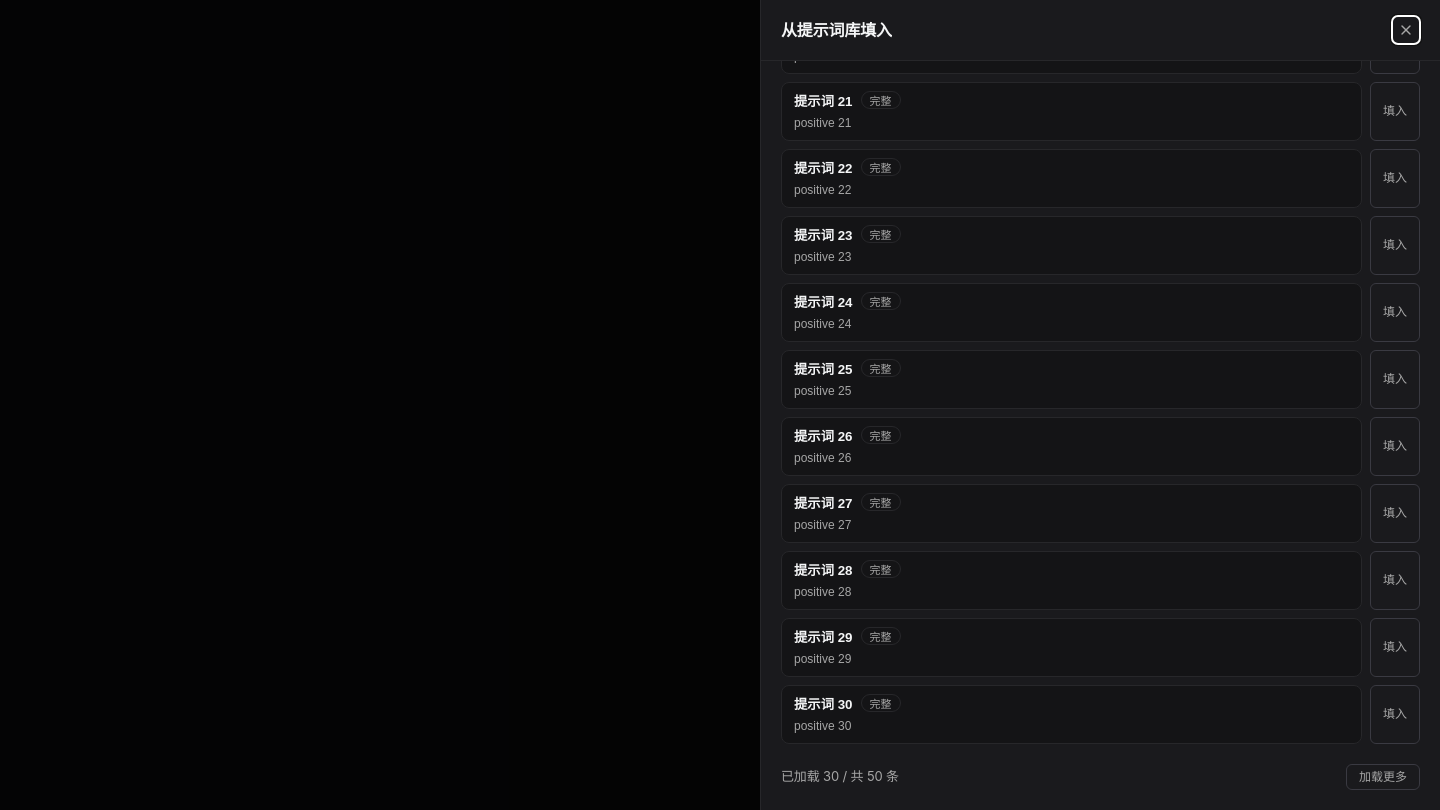
PromptLibraryDrawer 搜索与分页（v0.37 P1-C） › 50 条：首屏 30，点击加载更多补齐剩余 20
This screenshot has width=1440, height=810.
(page scrolled)
Expected: the text "已加载 30 / 共 50 条" is shown, [781,767,899,786]
Click the button "加载更多".
click(1383, 776)  # box [1346,764,1420,790]
(page scrolled)
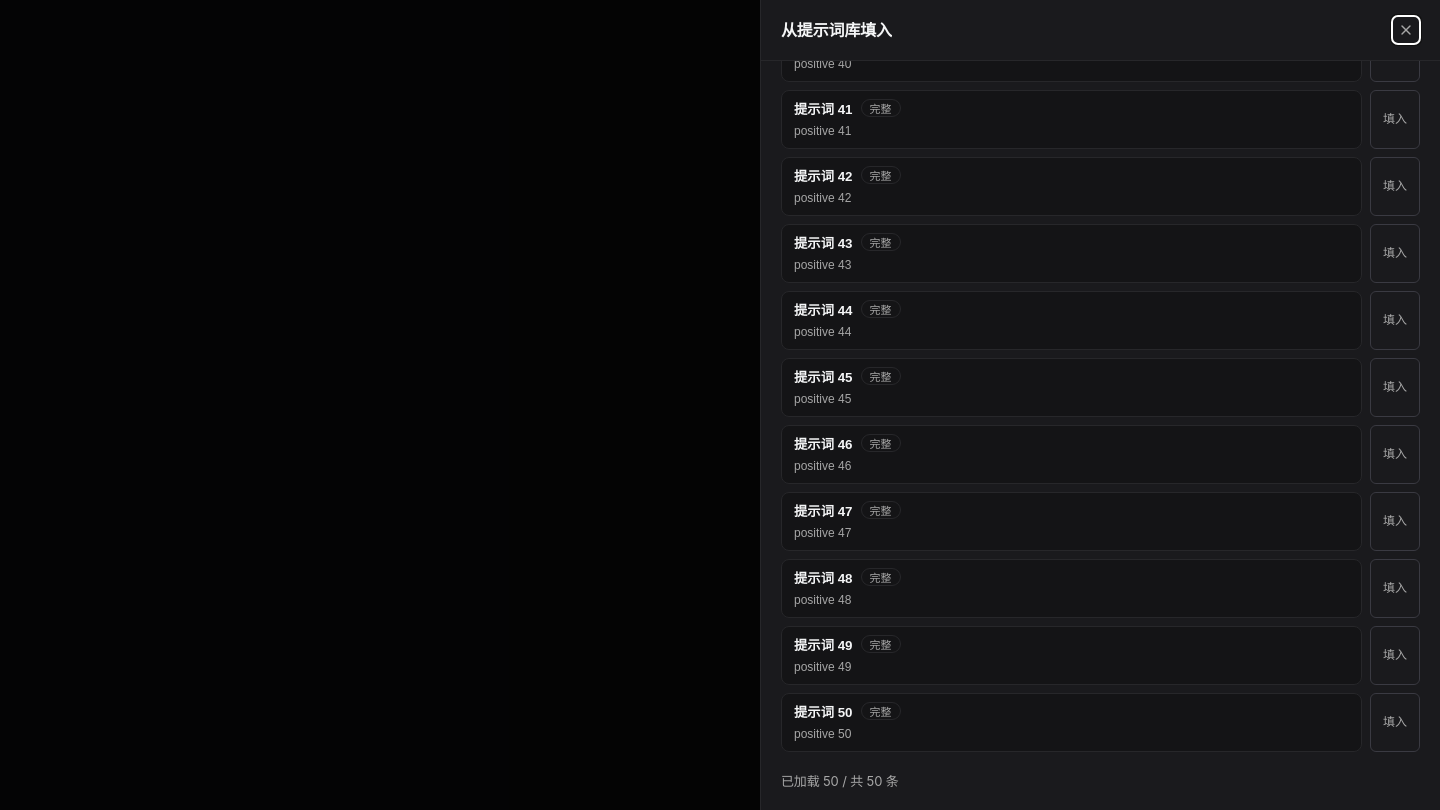
Result: the text "已加载 50 / 共 50 条" is shown at [781,772,899,790]
Result: the button "加载更多" is gone
